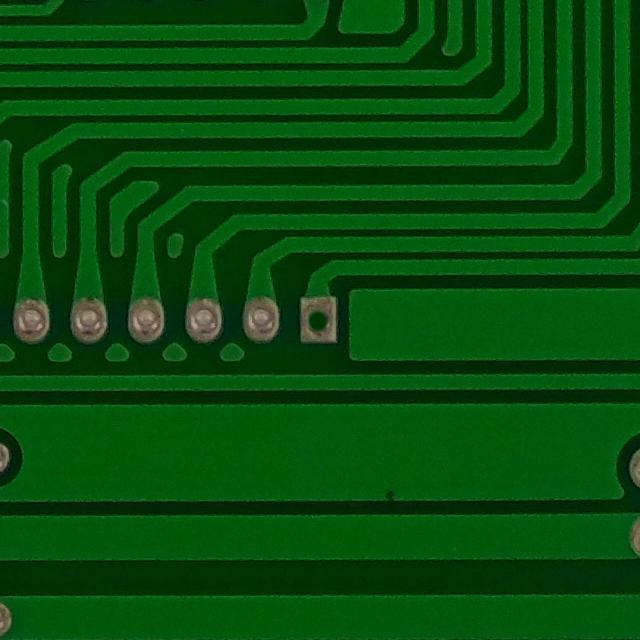missing_hole: (292, 289, 349, 352)
